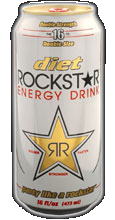grozi_48: (11, 0, 104, 219)
